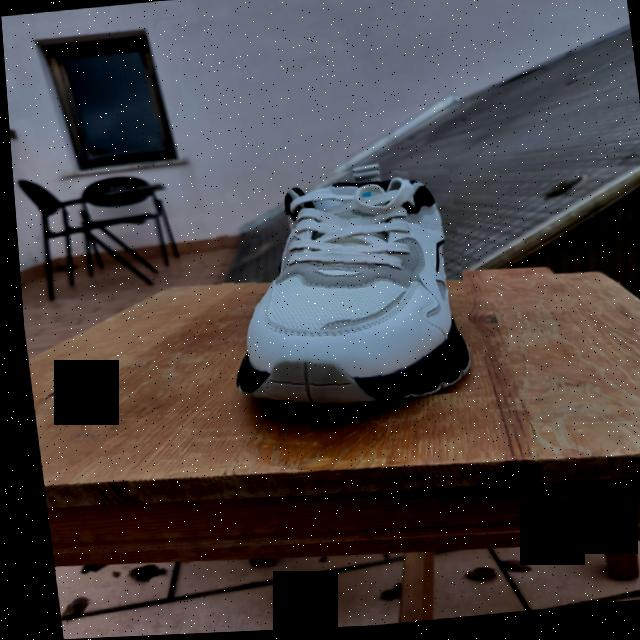shoe: (205, 160, 472, 417)
